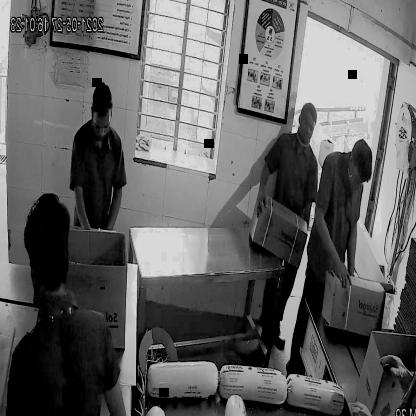no_goggles: (89, 114, 115, 136)
